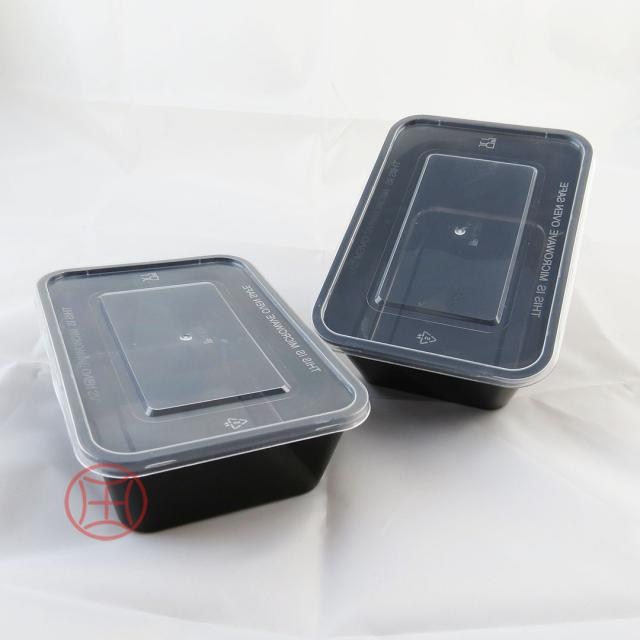plastic: (36, 248, 362, 548), (316, 115, 594, 404)
